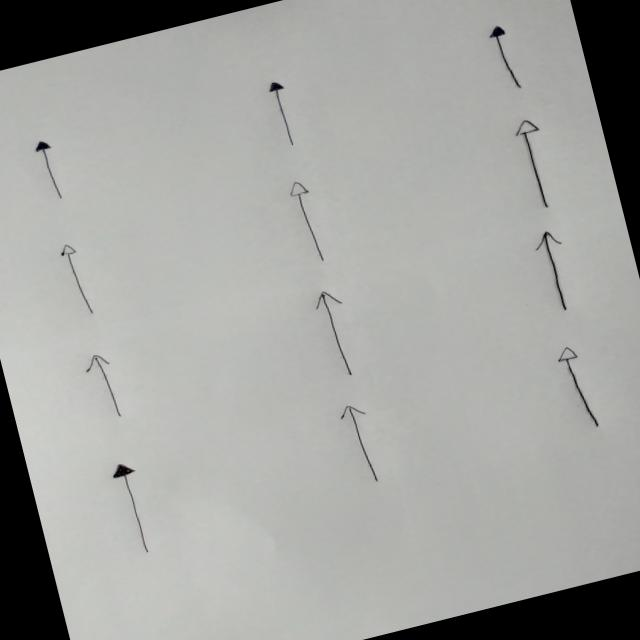arrow_line_up: (507, 112, 568, 214), (307, 284, 368, 384), (550, 340, 606, 436), (334, 397, 391, 490), (108, 458, 158, 560), (282, 174, 334, 269), (528, 226, 582, 316), (75, 348, 134, 427), (481, 17, 532, 98), (54, 238, 100, 322), (30, 134, 70, 207), (264, 78, 303, 151)
